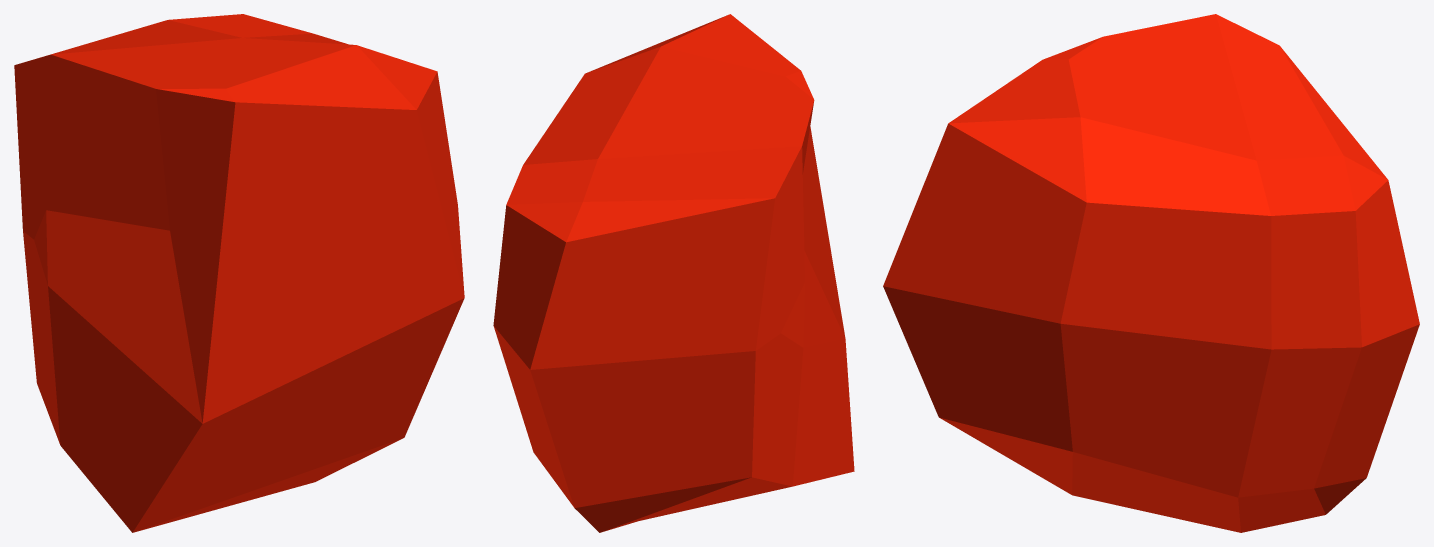
File: Nugget1_Red.fbx
3 renders of one model, left to right at view 1: azimuth 30°, elevation 25°; view 2: azimuth 150°, elevation 25°; view 3: azimuth 270°, elevation 25°, orthographic. The views are drawn at different scales.
Parts seen in each view (by area): view 1: Nugget1_Red; view 2: Nugget1_Red; view 3: Nugget1_Red.
Boxes of the visible parts, x1,y1,x2,y2 form: Nugget1_Red: (14, 14, 464, 532); Nugget1_Red: (493, 14, 854, 532); Nugget1_Red: (883, 14, 1419, 532).
Bounding box in the file's own units: 25.47 × 34.73 × 38.13.
